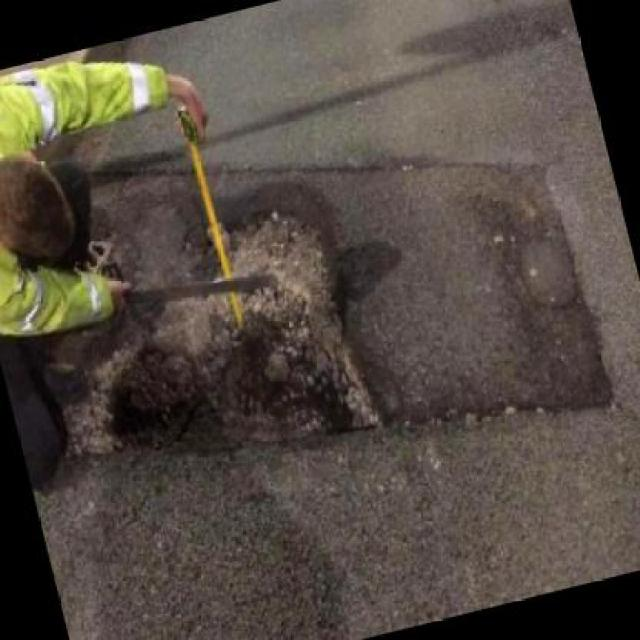pothole: (180, 164, 395, 468)
